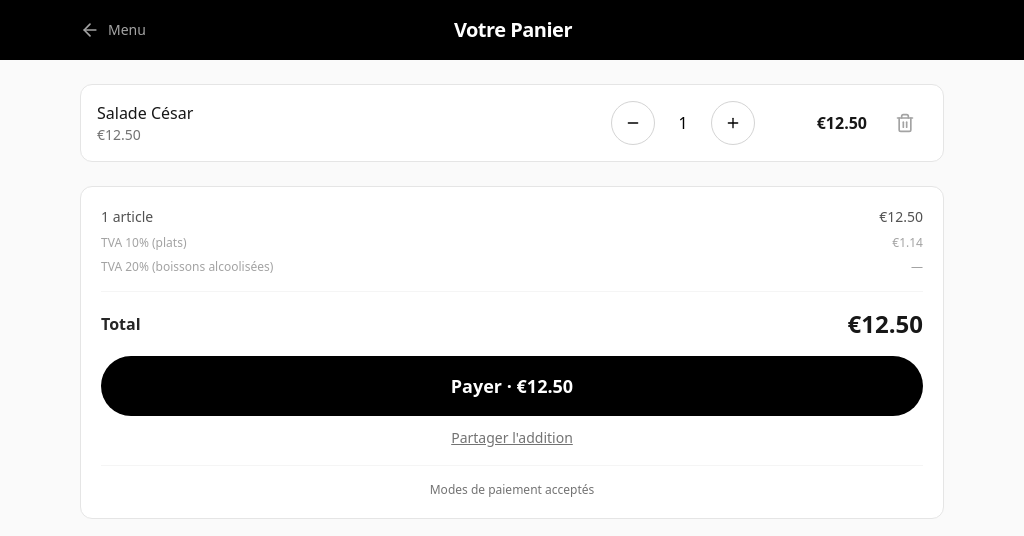
Test case: CartPage — quantity controls › increases quantity when + is clicked
Click the button named "Augmenter la quantité — Salade César" at (733, 123), box [711, 101, 755, 145]
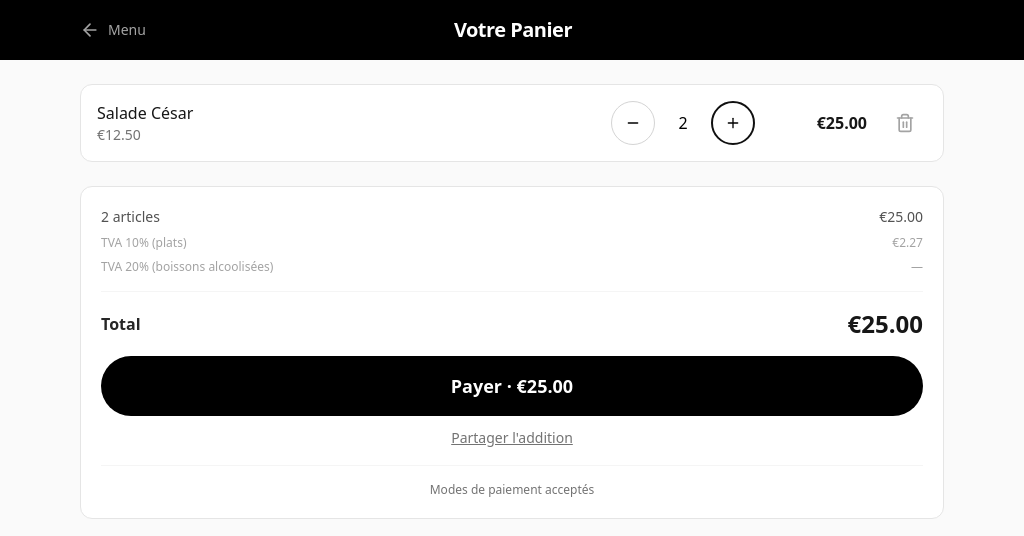
Result: the text "2" is shown at [678, 112, 688, 134]
